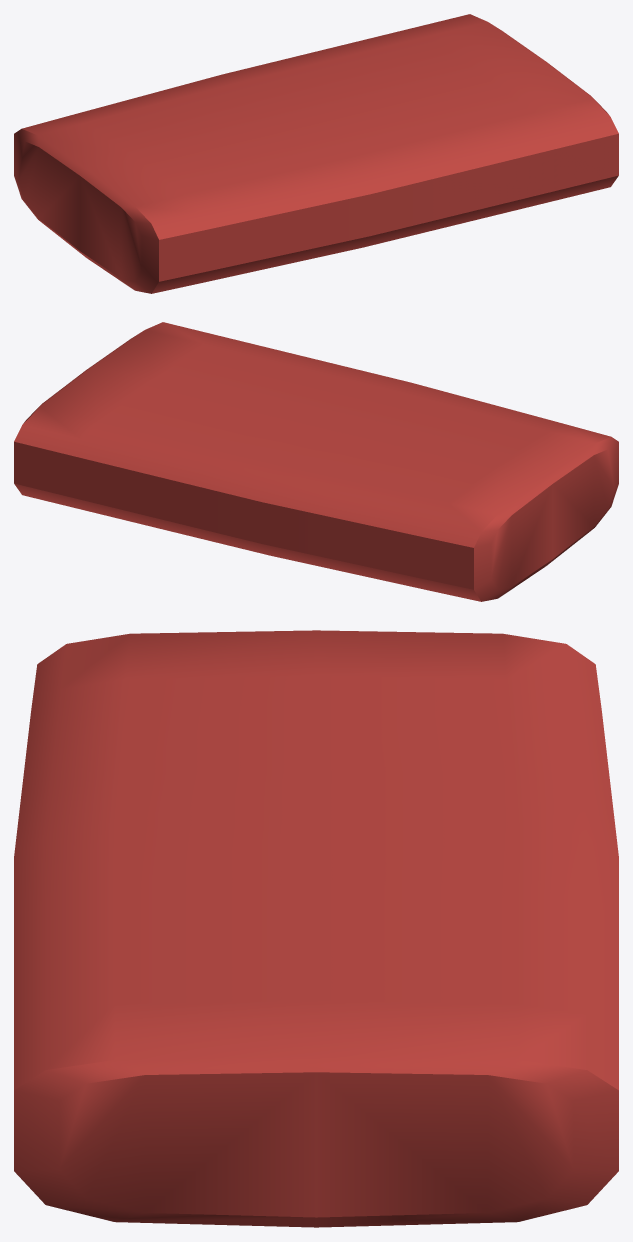
The model's file is tracker_lod1.glb.
3 renders of one model, top to bottom at view 1: azimuth 30°, elevation 25°; view 2: azimuth 150°, elevation 25°; view 3: azimuth 270°, elevation 25°, orthographic. The views are drawn at different scales.
Parts seen in each view (by area): view 1: tracker_lod1; view 2: tracker_lod1; view 3: tracker_lod1.
Part boxes in pixels (box(x1,y1,x2,y2)): tracker_lod1: box(14, 14, 618, 293); tracker_lod1: box(14, 322, 618, 601); tracker_lod1: box(14, 630, 618, 1227).
Size of the model in its own units: 0.44 by 0.08 by 0.2567.
